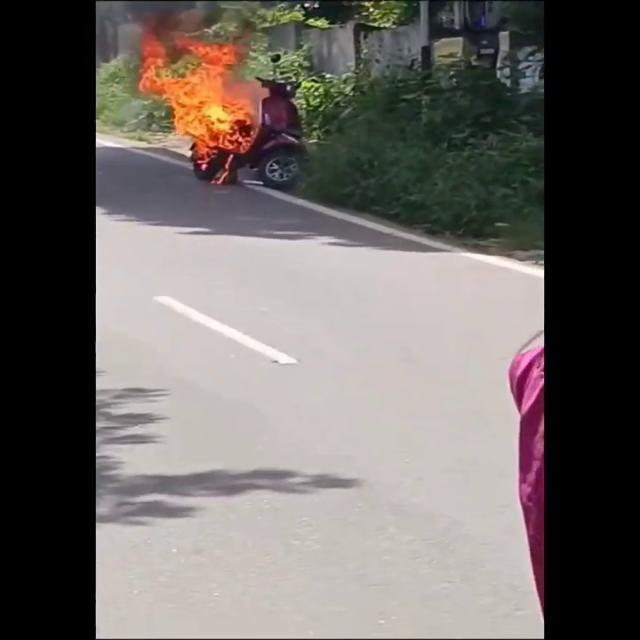Fire: (132, 31, 268, 172)
Smoke: (98, 0, 215, 43)
